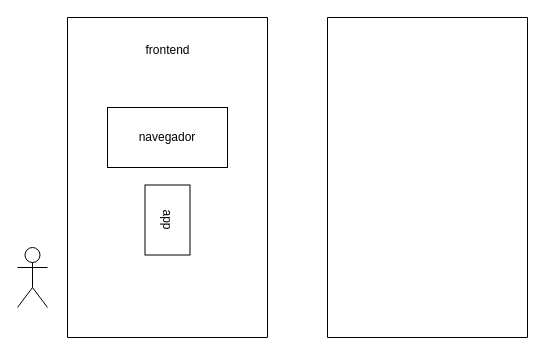
The diagram is 545 pixels wide and 355 high, and some of its shapes have lost their labels. Here are the shapes that lost their labels. From the top down, the centre of each, then its label:
point 427,177: backend
point 32,277: Actor
